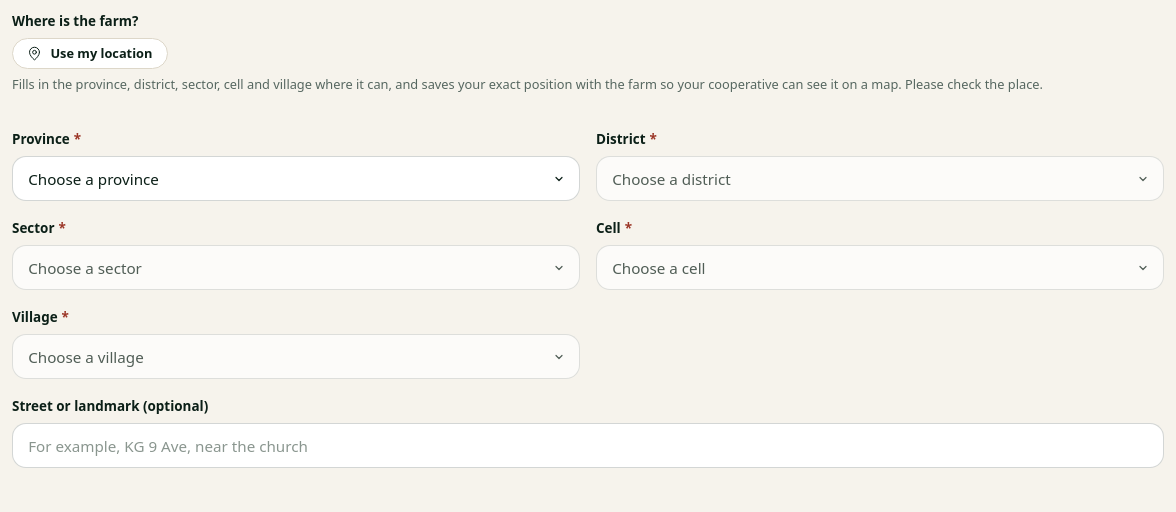
it: Use my location › fills the cell and the village too when the server knows them
This screenshot has width=1176, height=512.
What coordinates should you click on to do the following:
click the button "Use my location"
I would click on:
 (90, 53)
Its box is 12,38 -> 168,69.
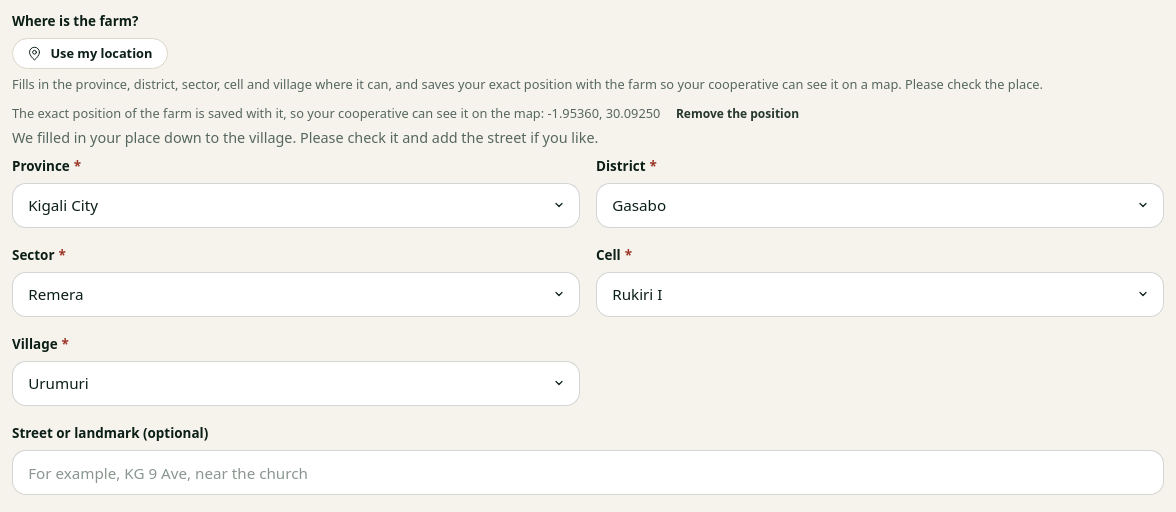
Now the dropdown labelled "Village *" shows "Urumuri", box 12,361 -> 580,406
Now the dropdown labelled "Cell *" shows "Rukiri I", box 596,272 -> 1164,317
Now the message shows "We filled in your place down to the village. Please check it and add the street if you like.", box 12,128 -> 598,147
